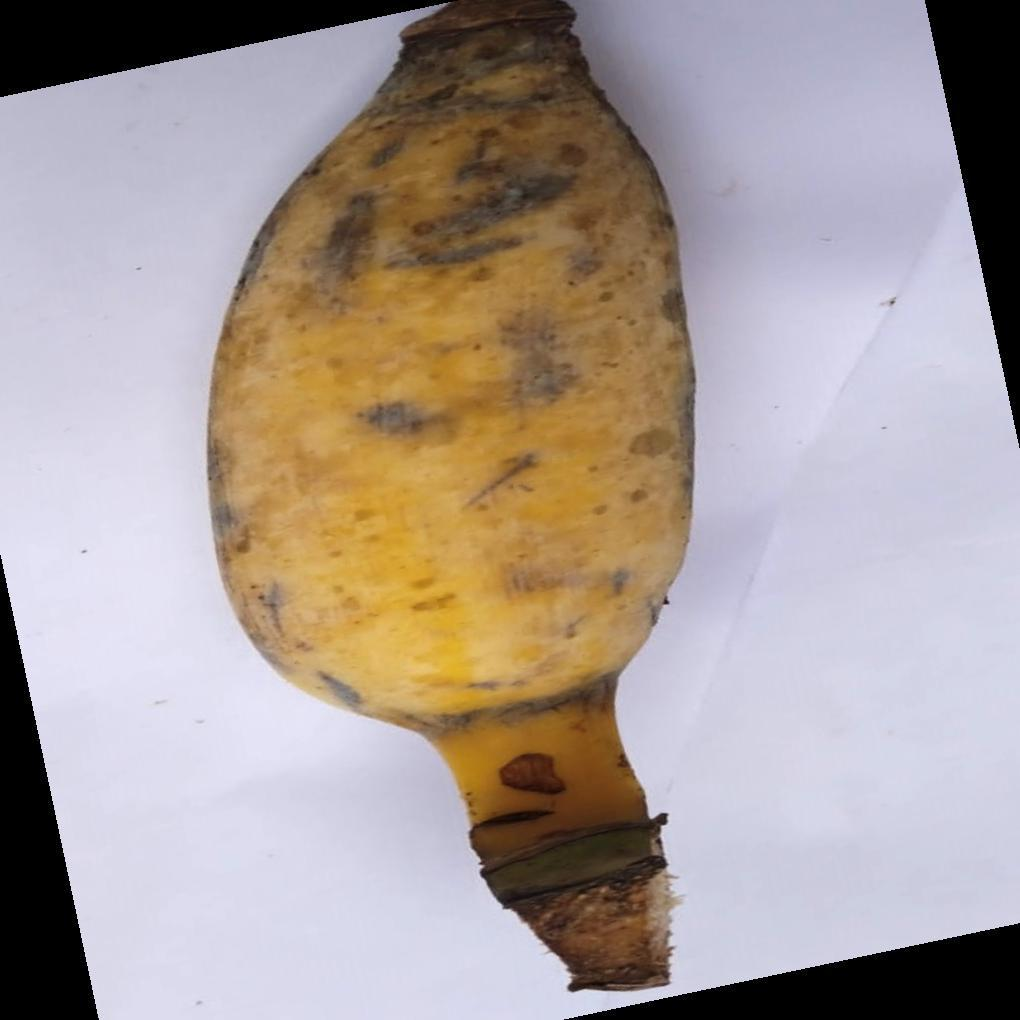Banana Ripe: (176, 10, 740, 1020)
